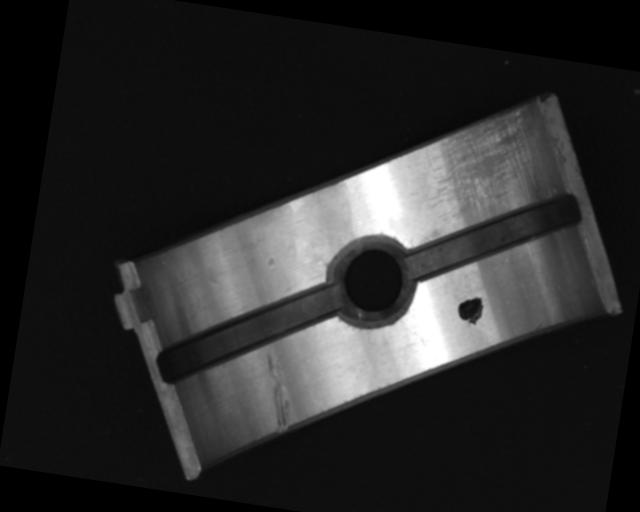blot: (454, 292, 486, 327)
bruise: (265, 256, 276, 271)
gap: (156, 259, 343, 404), (402, 171, 584, 302)
hole: (323, 229, 419, 331)
nick: (255, 352, 300, 435)
scratch: (417, 95, 551, 235)
